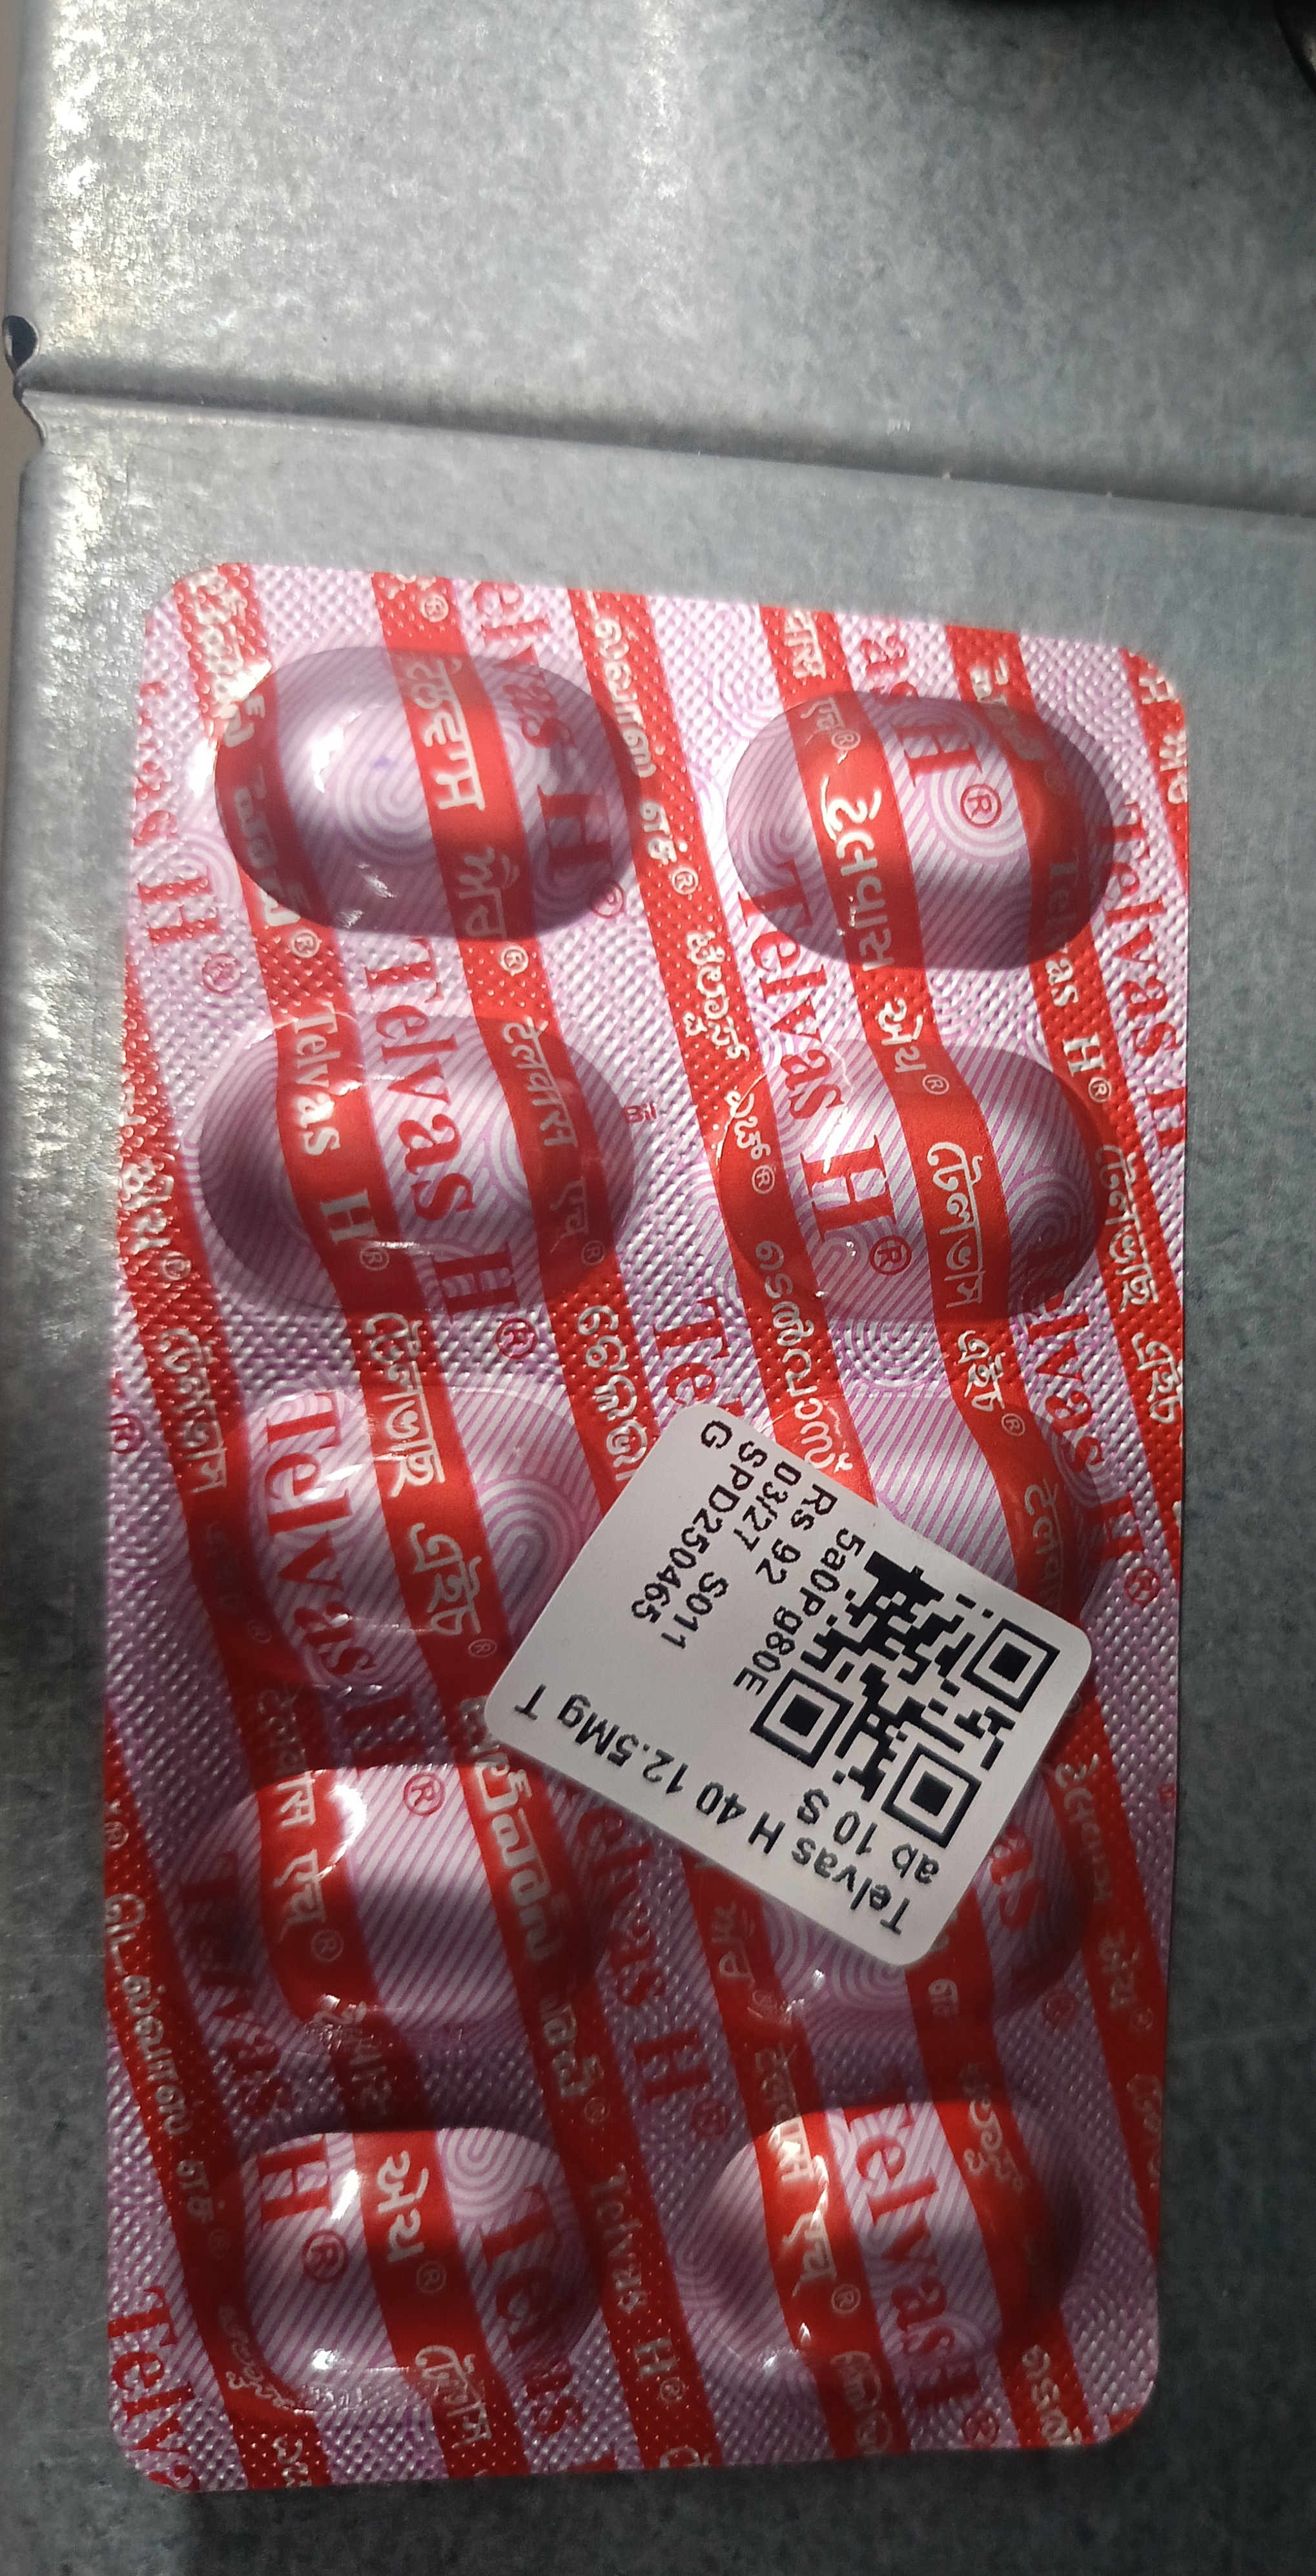QR: (750, 1386, 1061, 1695)
